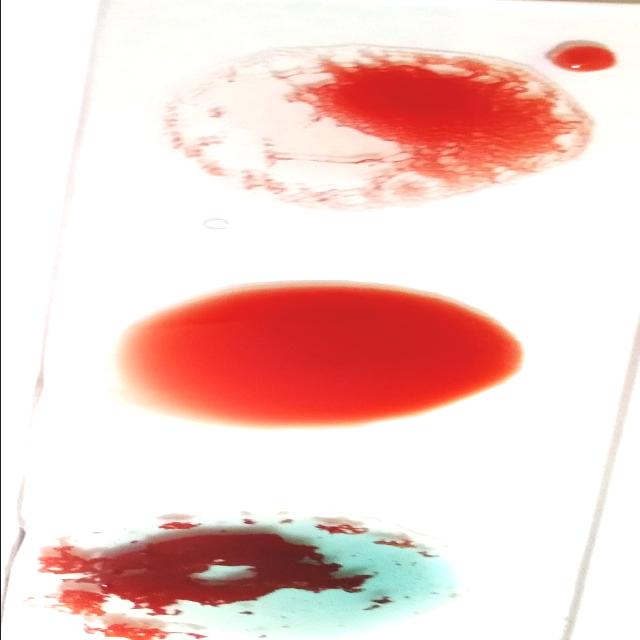A: (28, 508, 472, 638)
D: (162, 56, 570, 193)
